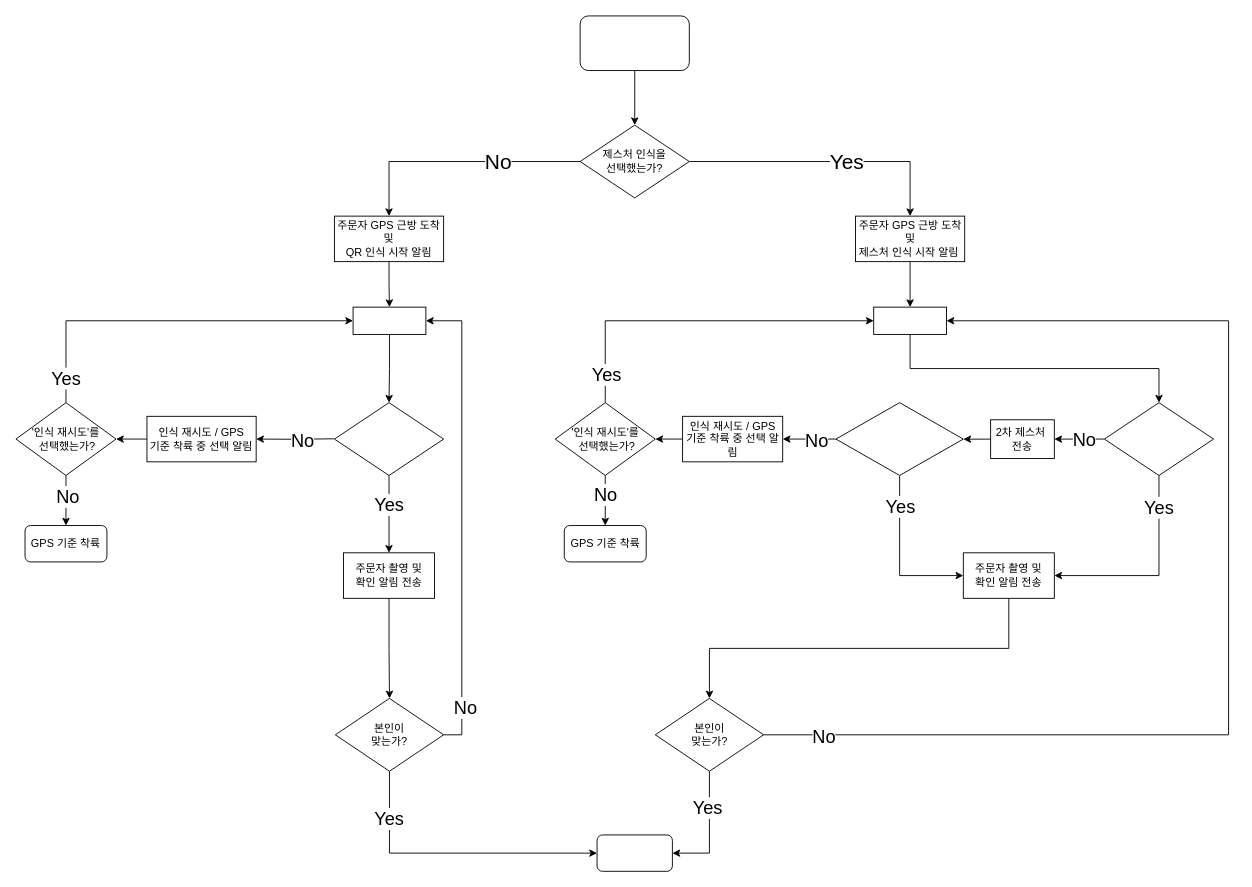
The diagram is 1252 pixels wide and 887 high, and some of its shapes have lost their labels. The box of each missing label's shape, as (x1, y1, x2, y2) in pixels:
2차 제스처 인증에 성공했는가?: (835, 402, 963, 475)
QR 인식: (352, 306, 426, 334)
QR 인식에 성공했는가?: (334, 402, 444, 475)
물품 수령: (596, 834, 672, 871)
제스처 인식: (873, 306, 946, 334)
제스처 인식에 성공했는가?: (1103, 402, 1214, 475)
주문자의 인식 방법 선택: (579, 15, 689, 71)
